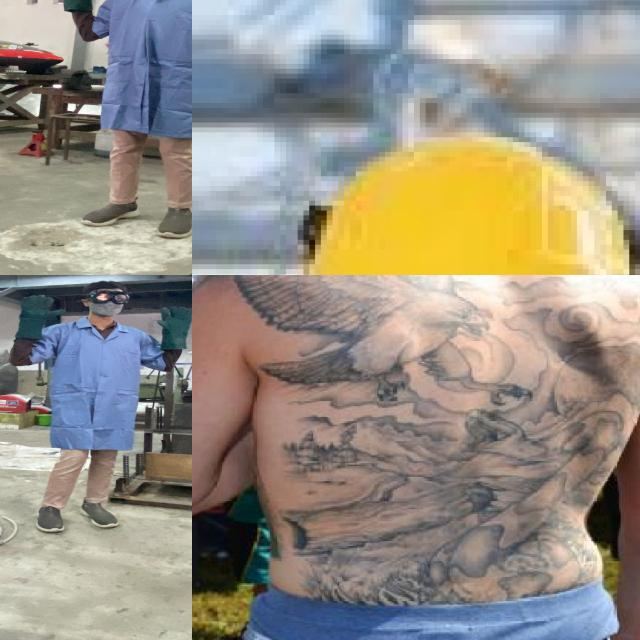glasses: (78, 286, 134, 306)
hand_glove: (10, 289, 70, 328), (149, 301, 192, 335)
head_helmet: (284, 132, 640, 275)
head_nohelmet: (81, 276, 131, 297)
person: (192, 275, 640, 640), (0, 275, 192, 540), (49, 0, 192, 247)
shoes: (77, 196, 146, 229), (24, 498, 74, 538), (71, 498, 125, 531), (148, 201, 192, 239)
